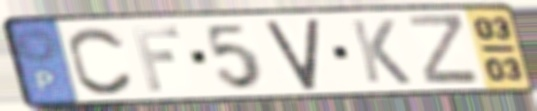5: (204, 22, 266, 91)
C: (66, 24, 138, 97)
F: (128, 24, 183, 93)
K: (347, 17, 415, 86)
V: (262, 16, 321, 93)
Z: (405, 12, 483, 86)
